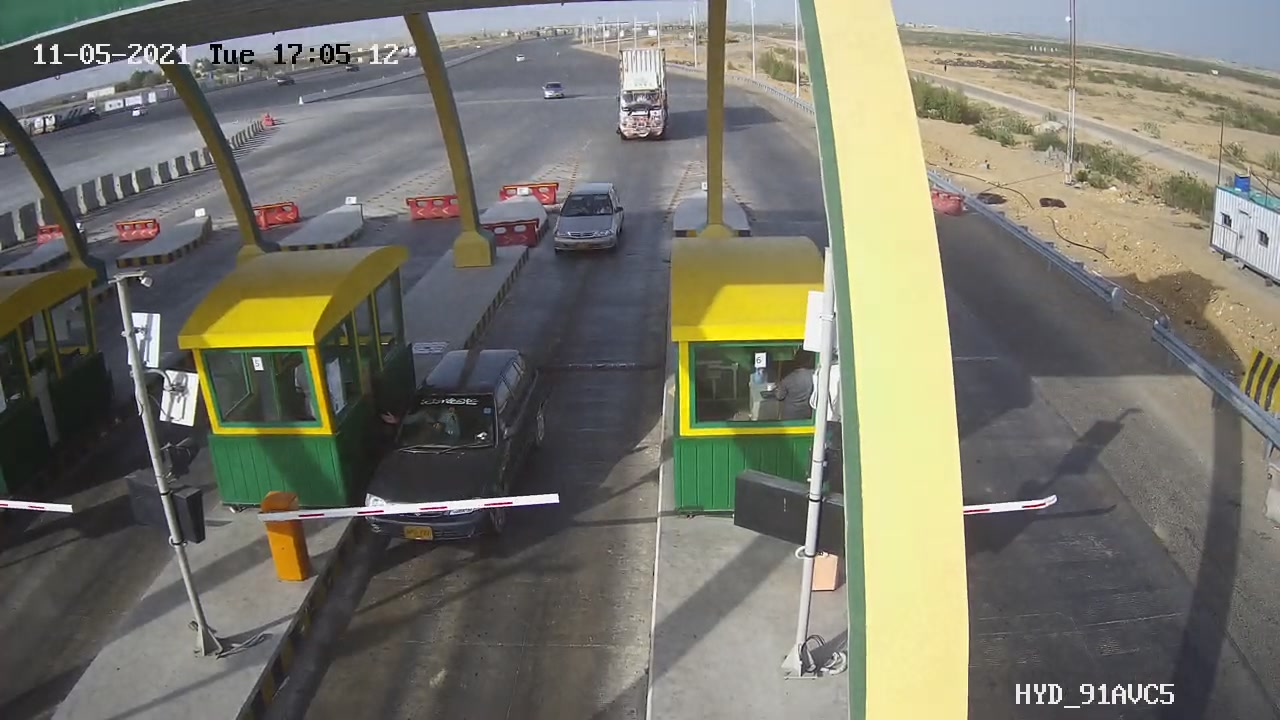F1: (343, 326, 572, 573), (539, 169, 635, 265)
